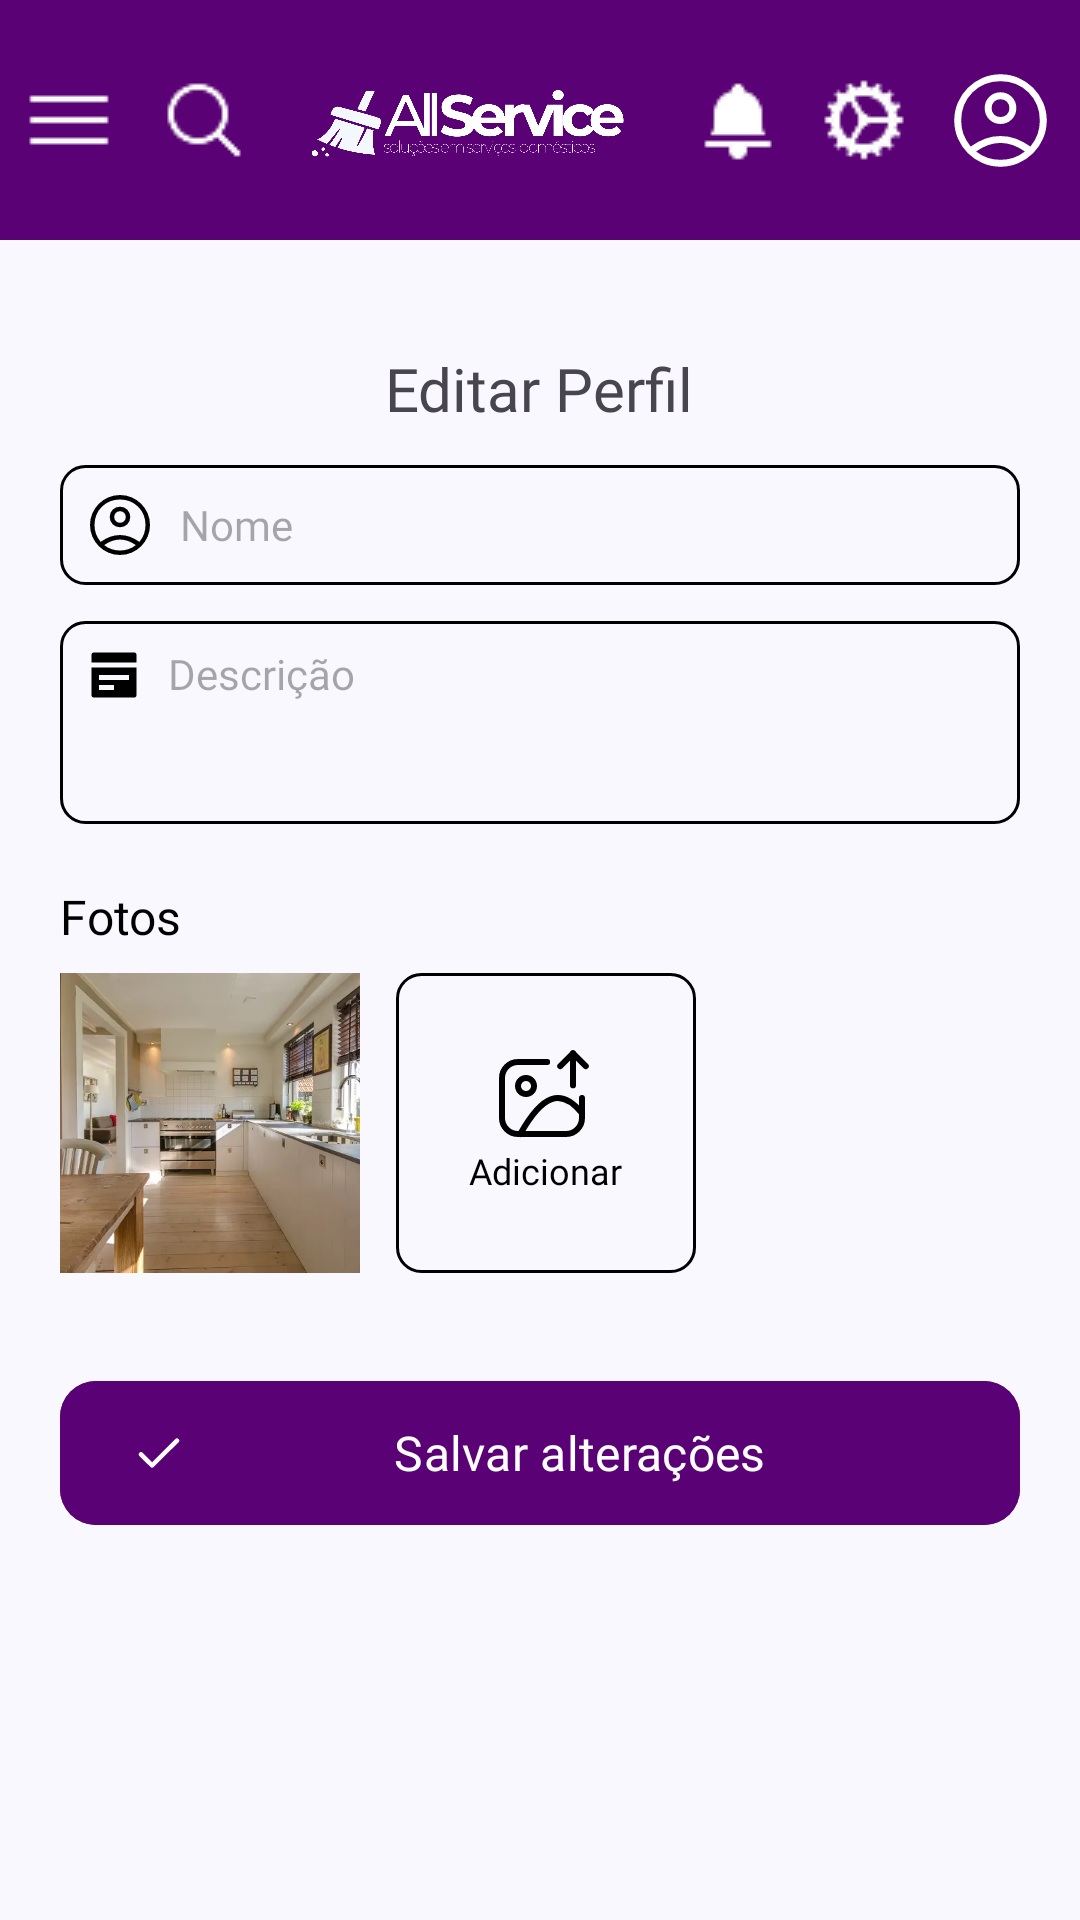

Where to tap for icons on this 1080px x 1920px app screen, as (x,y):
Buscar: (204,120)
Configurações: (864,120)
description: (114,675)
Menu: (69,120)
Notificações: (738,121)
Perfil: (1000,120)
